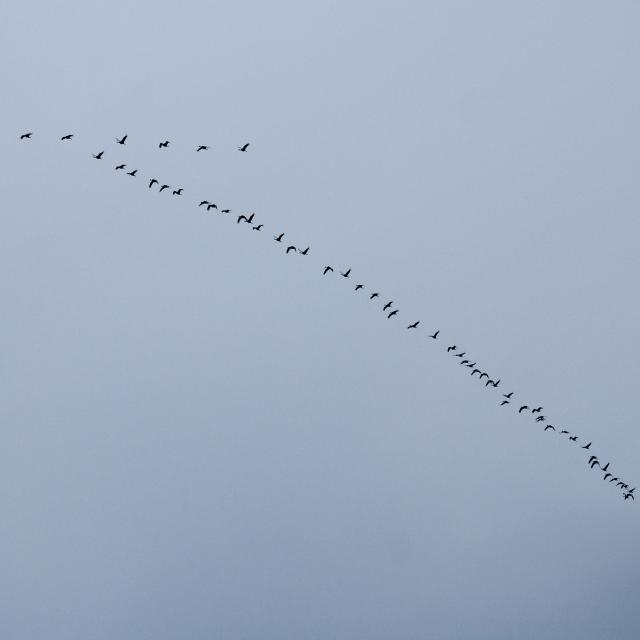bird: (199, 199, 218, 212), (235, 214, 253, 227), (116, 132, 130, 146), (322, 264, 336, 278), (18, 130, 34, 142), (459, 358, 475, 370), (157, 138, 171, 151), (147, 176, 161, 189), (407, 318, 422, 330), (340, 268, 354, 280), (60, 132, 74, 144), (428, 329, 442, 341), (532, 406, 546, 418), (92, 150, 105, 162), (238, 140, 250, 153), (196, 142, 209, 154), (273, 232, 286, 244), (298, 245, 312, 256), (622, 492, 636, 503), (485, 378, 500, 388), (445, 342, 458, 353), (158, 185, 171, 196), (252, 224, 266, 234), (128, 168, 140, 179), (455, 350, 467, 361), (385, 310, 398, 320), (543, 422, 556, 432), (170, 188, 183, 198), (115, 162, 128, 172), (456, 357, 469, 367), (533, 413, 547, 422), (369, 292, 381, 302), (286, 244, 298, 254), (352, 284, 364, 294), (599, 462, 611, 472), (382, 302, 394, 312), (568, 434, 581, 443), (478, 372, 491, 381), (518, 405, 529, 415), (582, 442, 593, 452), (221, 206, 232, 216), (490, 379, 503, 387), (588, 455, 600, 463), (499, 399, 511, 407), (603, 472, 613, 481), (501, 392, 514, 398), (470, 368, 481, 375), (559, 428, 570, 435), (592, 459, 600, 468), (621, 484, 631, 490), (625, 488, 636, 493), (609, 478, 620, 482), (616, 482, 626, 486)
